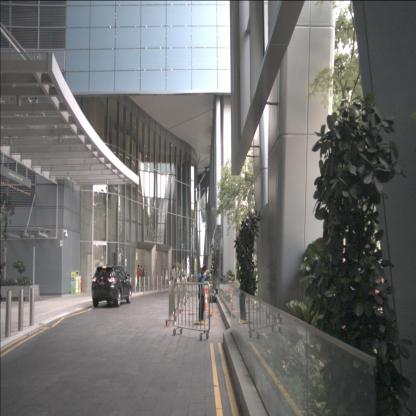cone: (203, 290, 209, 311)
